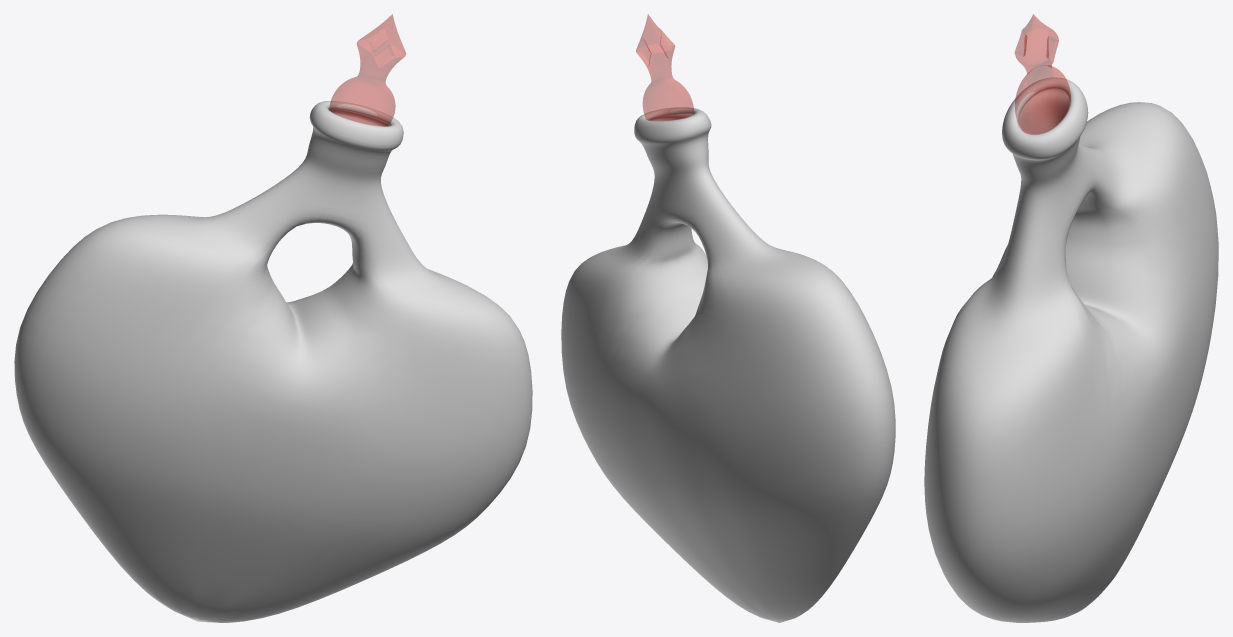
File: poison_bottle3.gltf
3 views of the same model, side by side, from view 1: azimuth 30°, elevation 25°; view 2: azimuth 150°, elevation 25°; view 3: azimuth 270°, elevation 25° (orthographic). The views are drawn at different scales.
Parts seen in each view (by area): view 1: love potion.002, Sphere.001; view 2: love potion.002, Sphere.001; view 3: love potion.002, Sphere.001.
Boxes of the visible parts, bbox=[...] form: love potion.002: bbox=[14, 101, 532, 622]; Sphere.001: bbox=[329, 14, 405, 126]; love potion.002: bbox=[561, 107, 895, 622]; Sphere.001: bbox=[636, 14, 693, 120]; love potion.002: bbox=[924, 77, 1218, 622]; Sphere.001: bbox=[1015, 14, 1070, 134].
Bounding box in the file's own units: 3.81 × 5.05 × 2.03.
